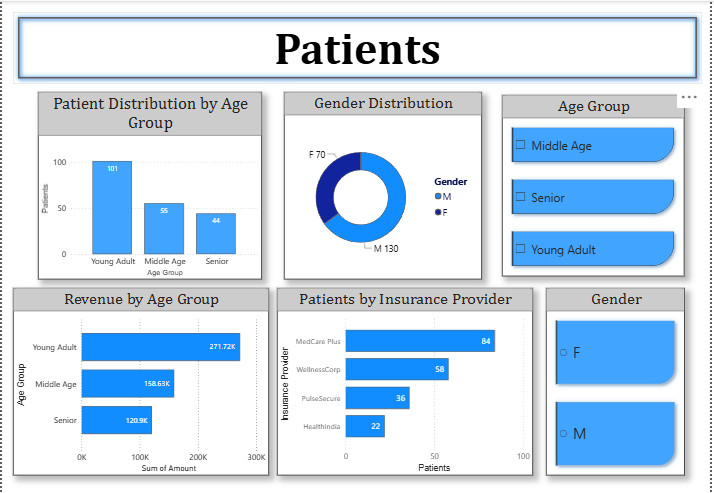

The dashboard page shown, as its layout file describes it:
{"tool":"powerbi","page":{"name":"Patient Analytics","canvas":[1280,890],"ordinal":1},"visuals":[{"type":"clusteredColumnChart","title":"Patient Distribution by Age Group","fields":{"Category":["master_healthcare_dataset.age_group"],"Y":["CountNonNull(master_healthcare_dataset.patient_id_x)"]},"box":[65.6,164.9,404.8,339.2],"z":0},{"type":"donutChart","title":"Gender Distribution","fields":{"Category":["master_healthcare_dataset.gender"],"Y":["CountNonNull(master_healthcare_dataset.patient_id_x)"]},"box":[509.8,164.9,358,339.2],"z":1000},{"type":"clusteredBarChart","title":"Revenue by Age Group","fields":{"Category":["master_healthcare_dataset.age_group"],"Y":["Sum(master_healthcare_dataset.amount)"]},"box":[20.6,519.1,462.9,339.2],"z":2000},{"type":"clusteredBarChart","title":"Patients by Insurance Provider","fields":{"Category":["master_healthcare_dataset.insurance_provider"],"Y":["CountNonNull(master_healthcare_dataset.patient_id_x)"]},"box":[496.6,519.1,462.9,339.2],"z":3000},{"type":"advancedSlicerVisual","title":"Age  Group","fields":{"Values":["master_healthcare_dataset.age_group"]},"box":[905.2,170.5,329.8,328],"z":4000},{"type":"advancedSlicerVisual","title":"Gender","fields":{"Values":["master_healthcare_dataset.gender"]},"box":[983.9,519.1,251.1,339.2],"z":5000},{"type":"actionButton","box":[20.6,20.6,1246.3,129.3],"z":6000}]}

Visuals, with their boxes in screenshot pixels (x1, y1, x2, y2), scaled from the page's 1280x890 canvas onto the 714x493 screenshot:
"Patient Distribution by Age Group" clusteredColumnChart: Rect(37, 91, 262, 279)
"Gender Distribution" donutChart: Rect(284, 91, 484, 279)
"Revenue by Age Group" clusteredBarChart: Rect(11, 288, 270, 475)
"Patients by Insurance Provider" clusteredBarChart: Rect(277, 288, 535, 475)
"Age  Group" advancedSlicerVisual: Rect(505, 94, 689, 276)
"Gender" advancedSlicerVisual: Rect(549, 288, 689, 475)
actionButton: Rect(11, 11, 707, 83)
